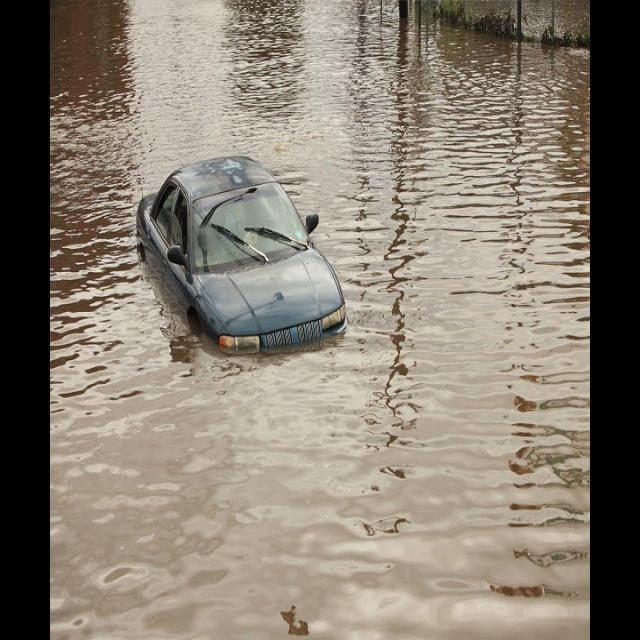water: (45, 0, 589, 638)
